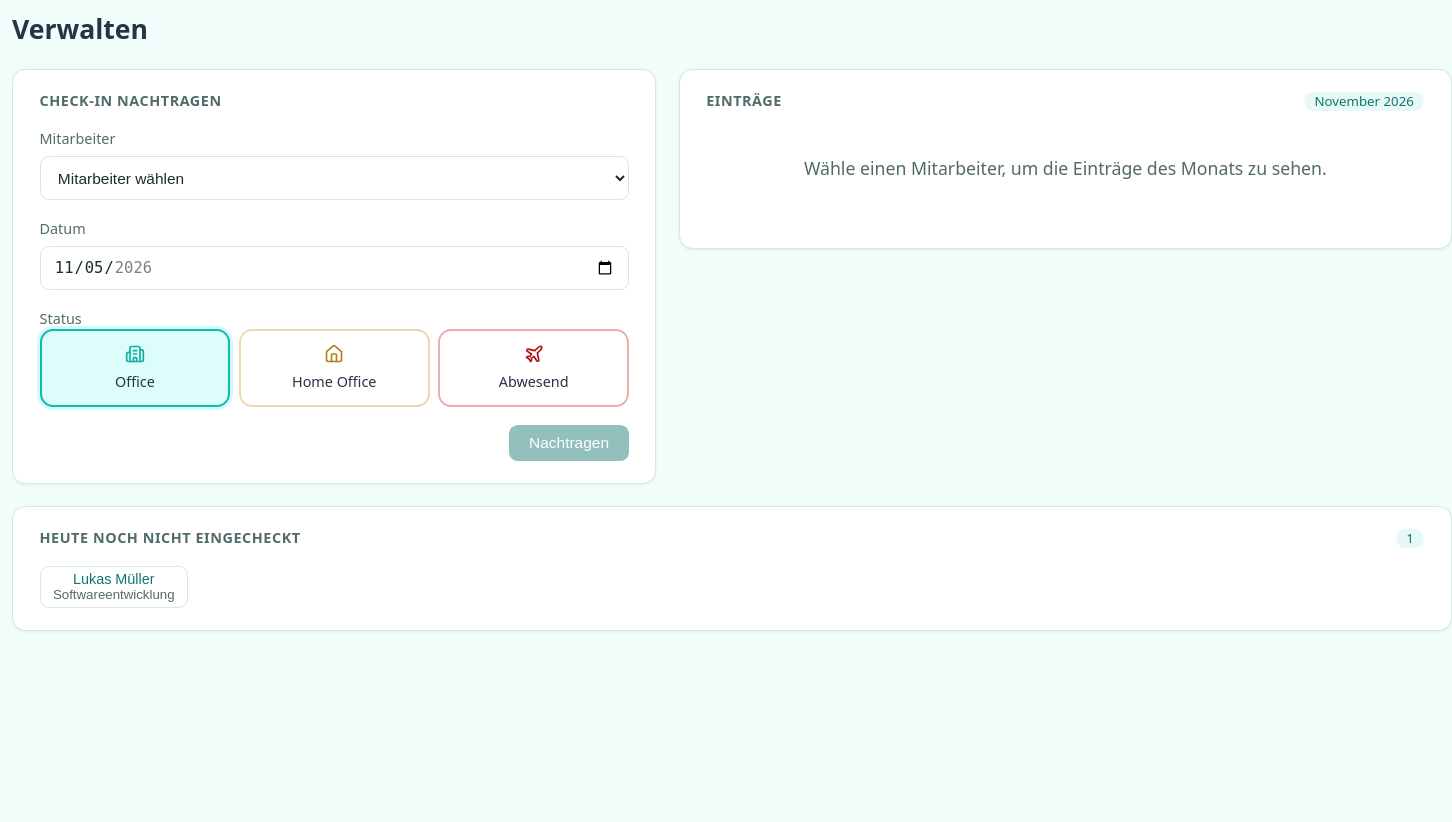
Manage page: "Heute noch nicht eingecheckt" (not checked in today) › pre-fills the form on a click on the name
Step 1. Click the button "Lukas Müller Softwareentwicklung" → (114, 587), box left=40, top=566, right=188, bottom=608
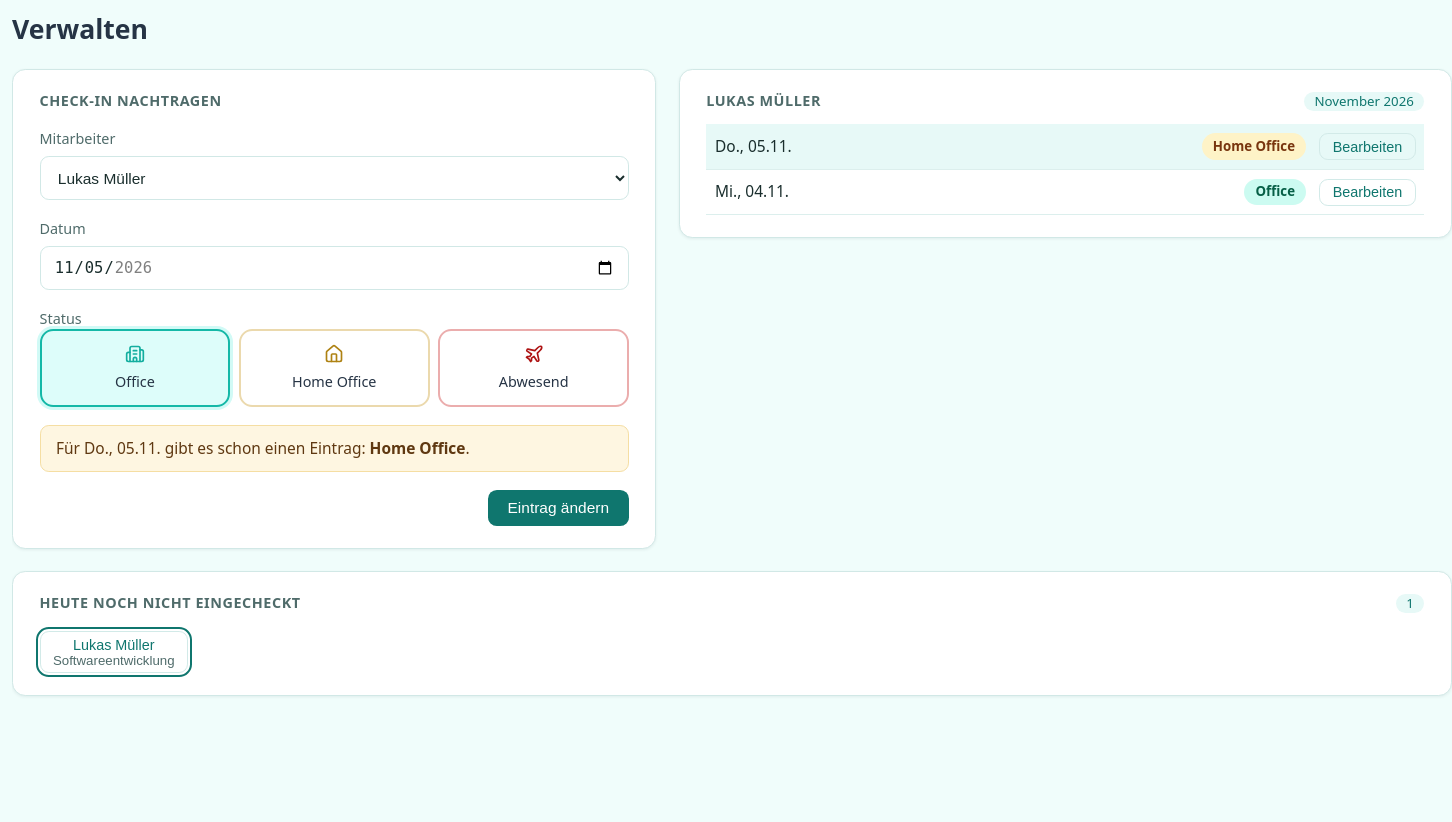
Check: the date field labelled "Datum" holds "2026-11-05", box left=40, top=246, right=629, bottom=290
Check: the dropdown shows "Lukas Müller", box left=40, top=156, right=629, bottom=200
